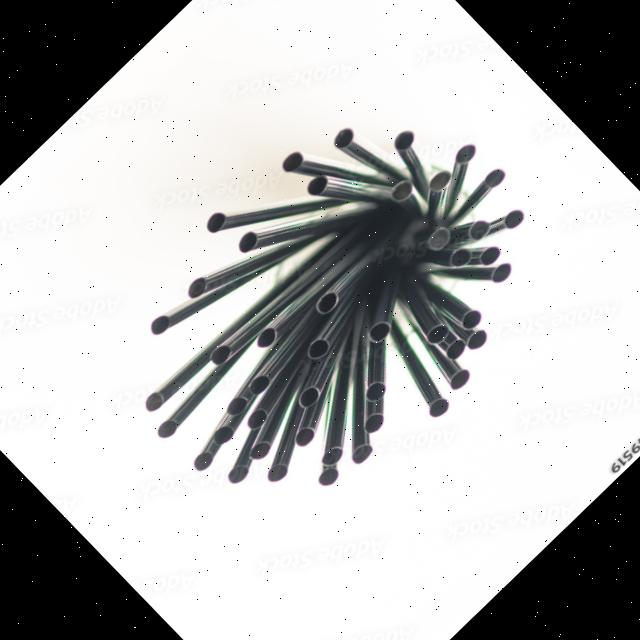plastic: (378, 346, 467, 436)
